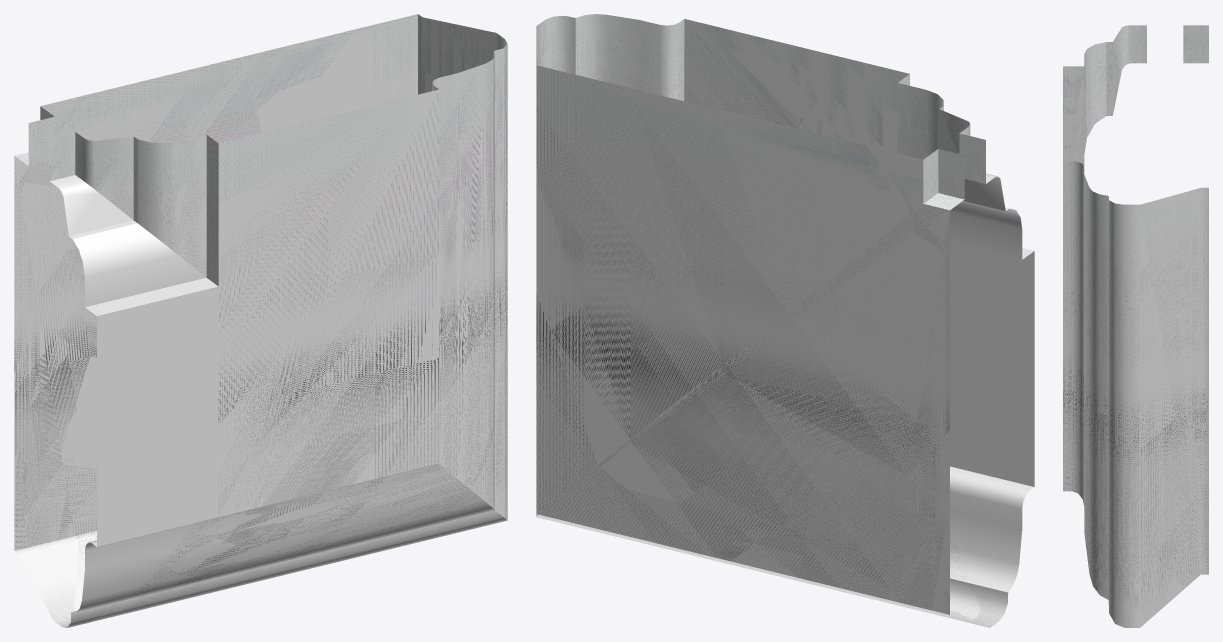
File: original-41.obj
3 renders of one model, left to right at view 1: azimuth 30°, elevation 25°; view 2: azimuth 150°, elevation 25°; view 3: azimuth 270°, elevation 25°, orthographic. The views are drawn at different scales.
Visible parts, largest first — view 1: LT_11_BR1/LT_11_BR/mesh32/mesh32-geometry#mesh32-geometry; view 2: LT_11_BR1/LT_11_BR/mesh32/mesh32-geometry#mesh32-geometry; view 3: LT_11_BR1/LT_11_BR/mesh32/mesh32-geometry#mesh32-geometry.
Boxes of the visible parts, box(x1,y1,x2,y2) form: LT_11_BR1/LT_11_BR/mesh32/mesh32-geometry#mesh32-geometry: box(14, 14, 507, 627); LT_11_BR1/LT_11_BR/mesh32/mesh32-geometry#mesh32-geometry: box(536, 14, 1034, 627); LT_11_BR1/LT_11_BR/mesh32/mesh32-geometry#mesh32-geometry: box(1063, 25, 1208, 627).
Bounding box in the file's own units: 0.087 × 0.09 × 0.0281.
